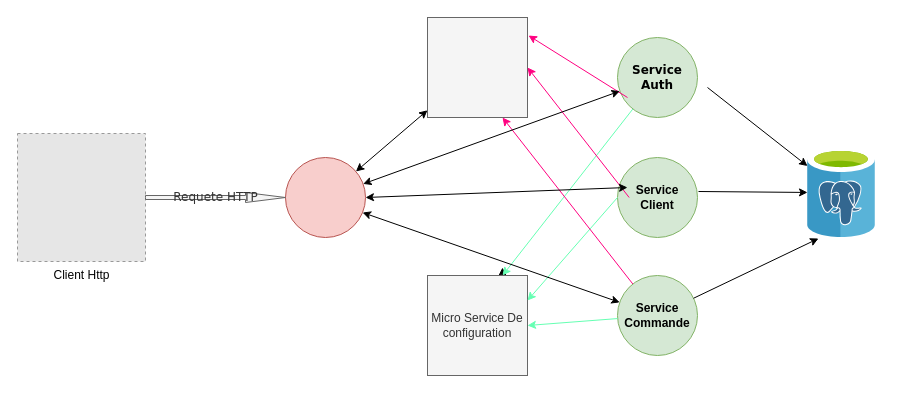
Some shapes in this 902 by 393 pixel diagram are drawn without their labels. Grey dashed boxes stand in for pictures. The centre of each missing label's shape, as x and y in pixels:
"Base de donnée" goes at point (841, 192).
"Micro Service d'enregistrement" goes at point (477, 67).
"Micro Service Proxy" goes at point (325, 197).
